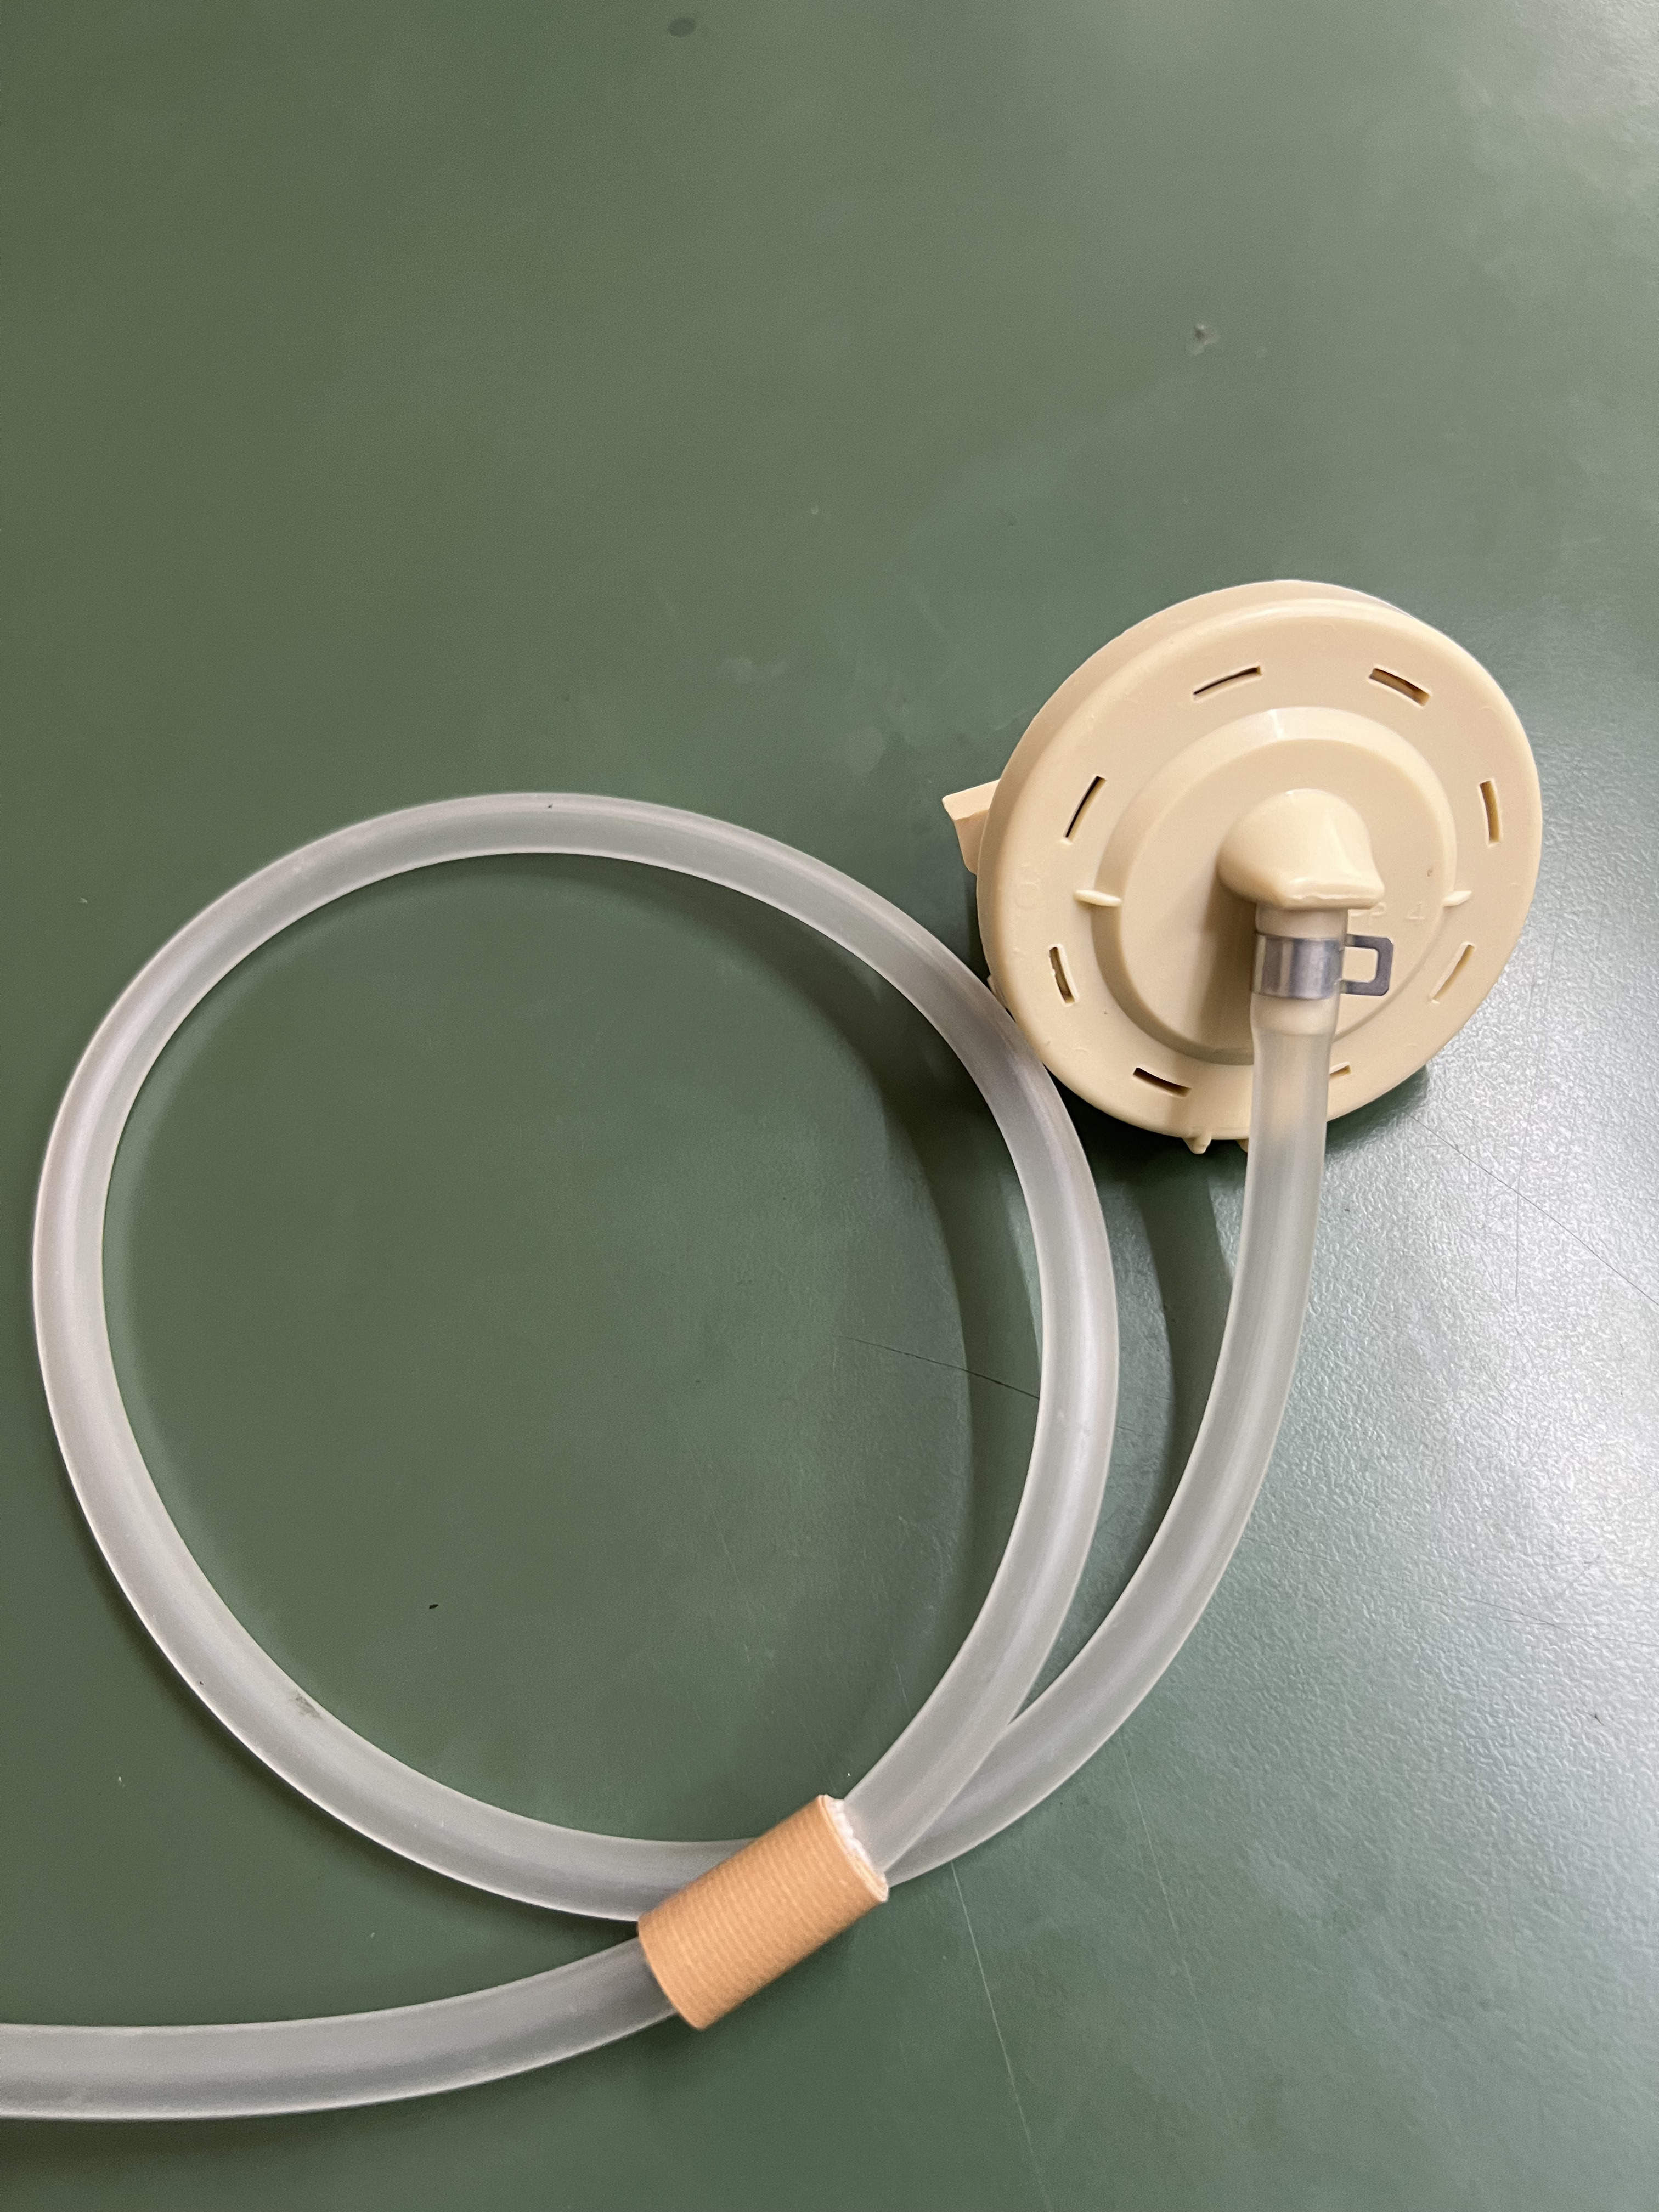pressure_sensor: (31, 563, 1551, 2081)
